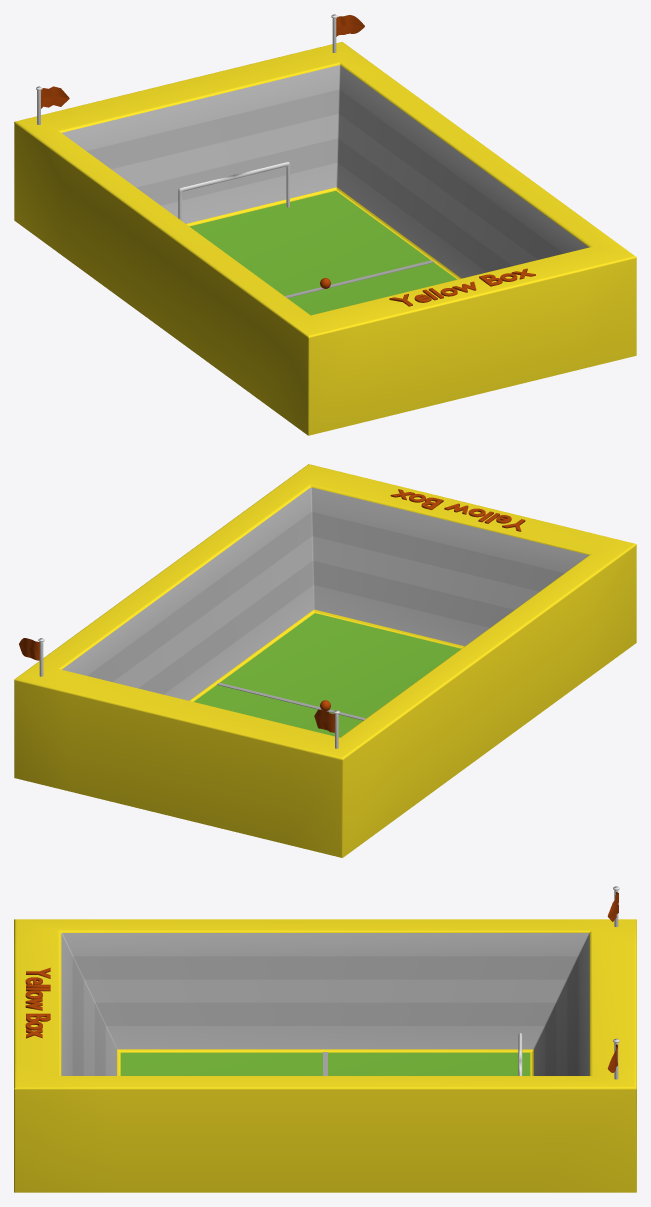
File: pelotita2.gltf
3 renders of one model, top to bottom at view 1: azimuth 30°, elevation 25°; view 2: azimuth 150°, elevation 25°; view 3: azimuth 270°, elevation 25°, orthographic. The views are drawn at different scales.
Visible parts, largest first — view 1: escenario, Text, Cube; view 2: escenario, Text; view 3: escenario, Text.
Boxes of the visible parts, box(x1,y1,x2,y2) form: escenario: box(14, 42, 636, 435); Text: box(389, 268, 535, 306); Cube: box(178, 162, 289, 220); escenario: box(14, 464, 636, 857); Text: box(390, 489, 525, 531); escenario: box(14, 919, 636, 1192); Text: box(25, 967, 50, 1038).
Bounding box in the file's own units: 4.75 × 1.86 × 7.18.
